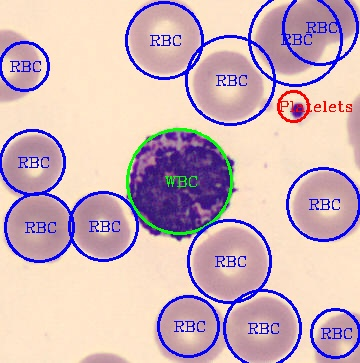Platelets: (284, 97, 313, 126)
RBC: (190, 223, 270, 300), (251, 0, 328, 77), (126, 0, 202, 77), (190, 47, 264, 123), (151, 292, 226, 362), (289, 169, 359, 244), (1, 194, 73, 266), (224, 295, 298, 362), (71, 191, 131, 261), (0, 132, 65, 196), (0, 27, 42, 106), (297, 0, 358, 44)
WBC: (126, 125, 238, 239)
